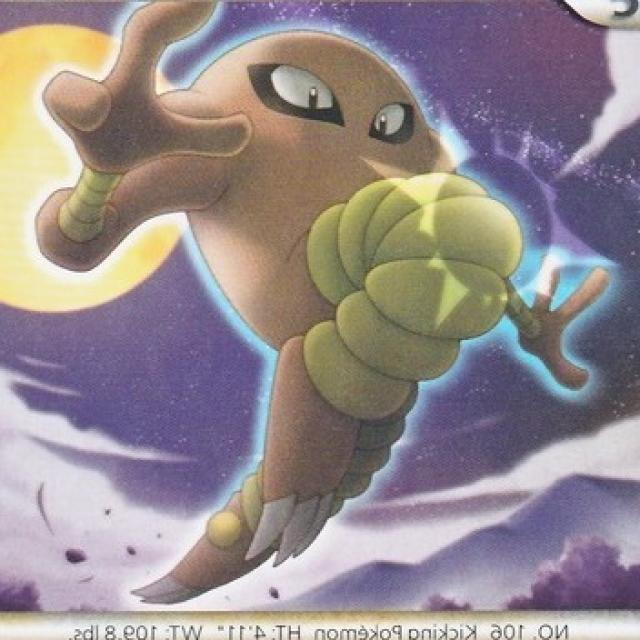Hitmonlee: (31, 1, 582, 617)
